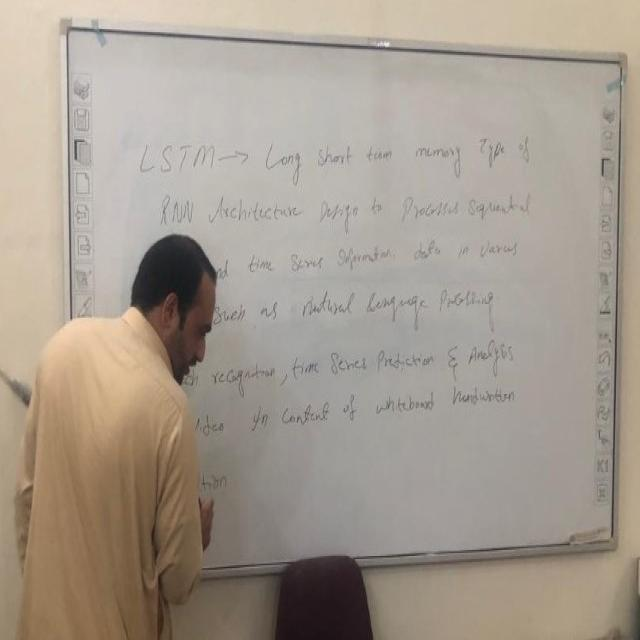Instructor: (45, 207, 214, 640)
White-board: (67, 19, 623, 595)
